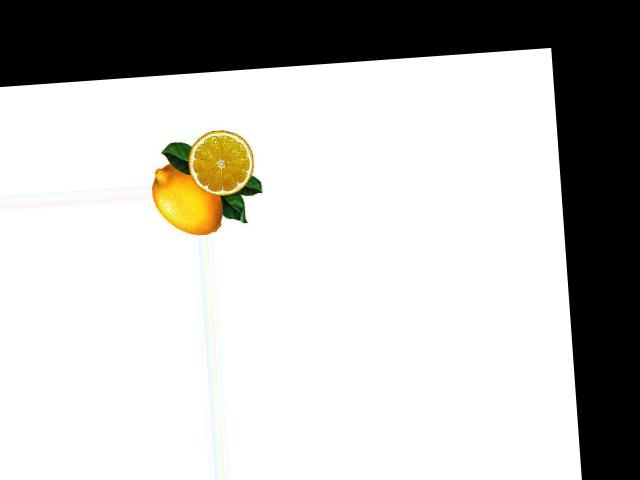lemon: (151, 158, 227, 238)
